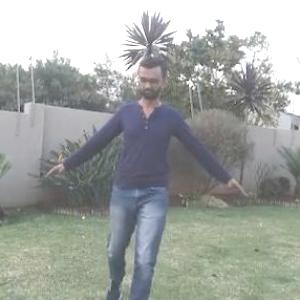land: (68, 43, 210, 281)
